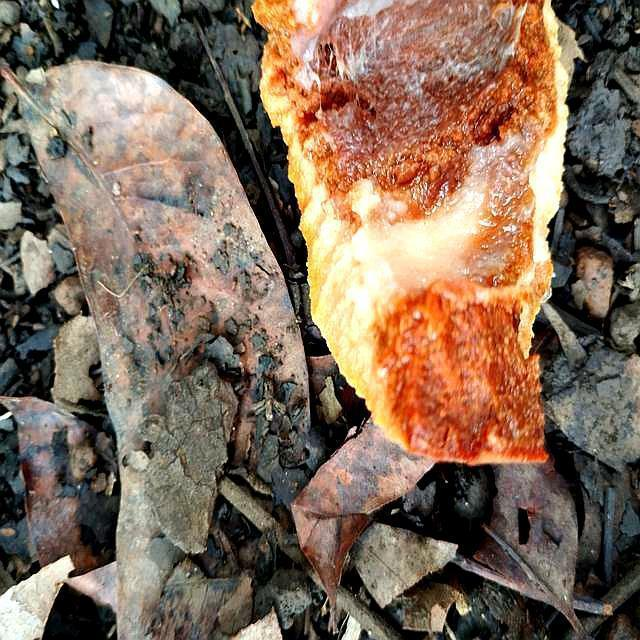Biodegradable: (244, 1, 568, 474)
